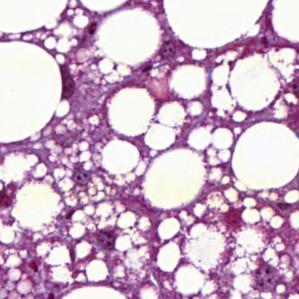steatosis: (107, 86, 156, 140)
